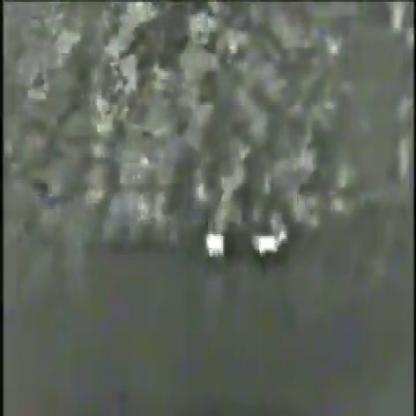rehkitze: (254, 231, 285, 261), (201, 229, 226, 259)
